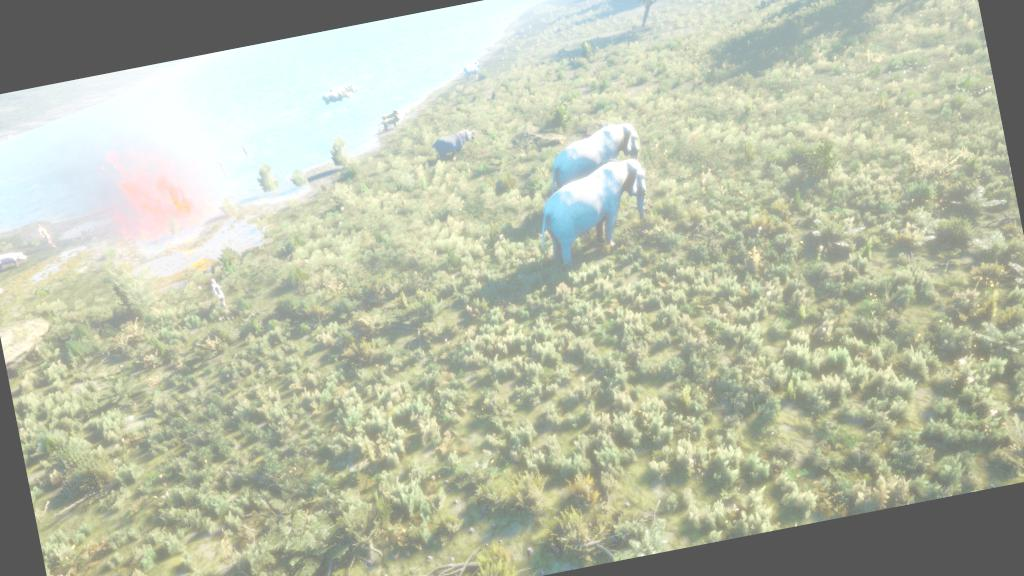Fire: (95, 136, 225, 253)
elephant: (515, 152, 662, 272), (534, 110, 656, 206)
hippopotamus: (424, 124, 490, 168)
human: (192, 269, 250, 335), (30, 216, 61, 253)
lion: (372, 105, 412, 140)
pig: (0, 242, 37, 283)
rhinoceros: (313, 76, 368, 119)
smoke: (23, 66, 225, 246)
zebra: (456, 58, 489, 86)
